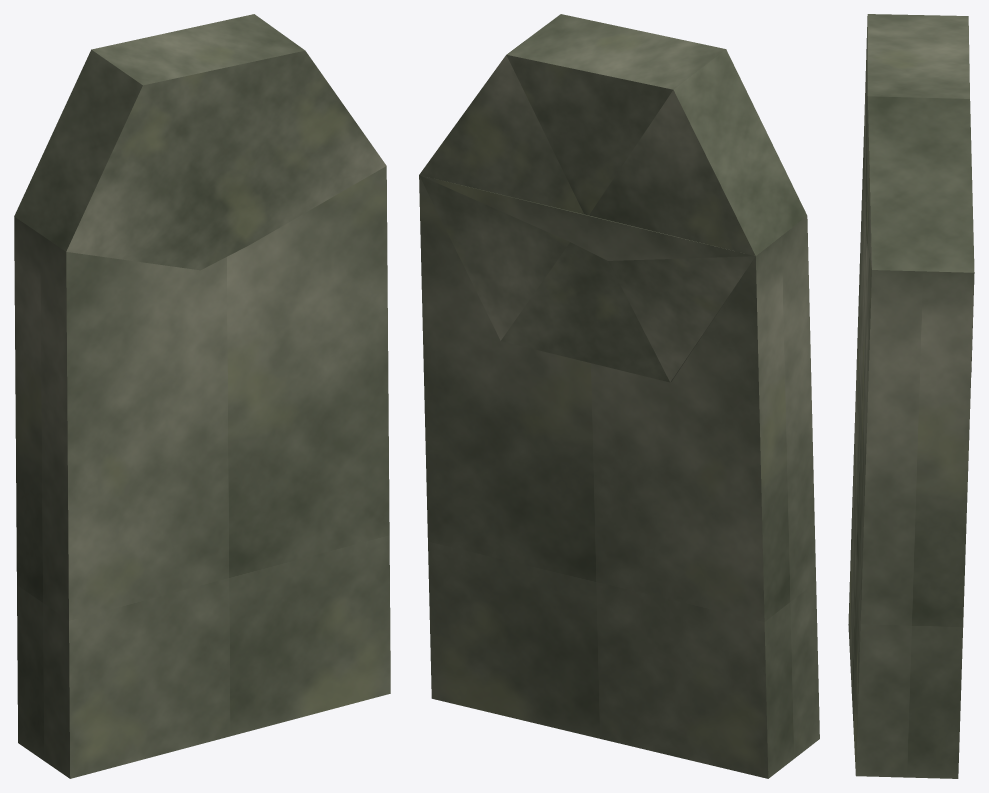
File: Gravestone_1_LOD1.gltf
3 renders of one model, left to right at view 1: azimuth 30°, elevation 25°; view 2: azimuth 150°, elevation 25°; view 3: azimuth 270°, elevation 25°, orthographic. The views are drawn at different scales.
Visible parts, largest first — view 1: Gravestone_1_LOD1; view 2: Gravestone_1_LOD1; view 3: Gravestone_1_LOD1.
Part boxes in pixels (x1,y1,x2,y2): Gravestone_1_LOD1: [14, 14, 390, 778]; Gravestone_1_LOD1: [419, 14, 819, 778]; Gravestone_1_LOD1: [848, 14, 974, 778].
Size of the model in its own units: 0.6643 by 1.28 by 0.2246.
Materials: 1 (1 with a texture image).
